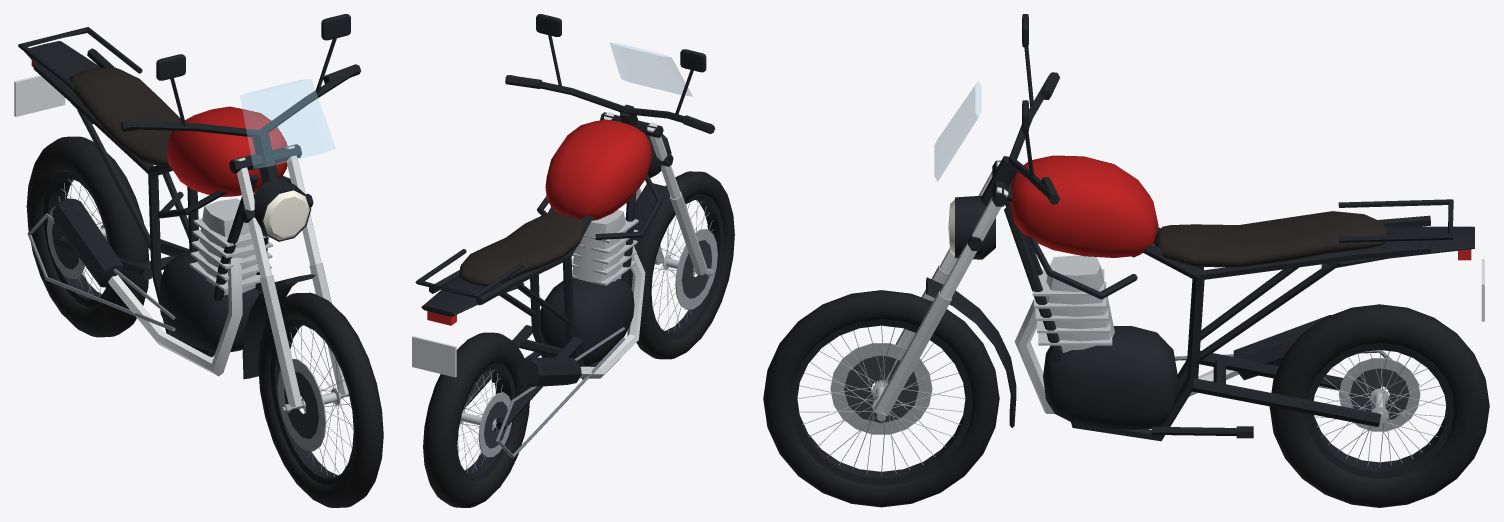
Rendered from royal_enfield_himalayan.mid.glb.
3 renders of one model, left to right at view 1: azimuth 30°, elevation 25°; view 2: azimuth 150°, elevation 25°; view 3: azimuth 270°, elevation 25°, orthographic. The views are drawn at different scales.
Parts seen in each view (by area): view 1: royal_enfield_himalayan, steer, front_wheel, rear_wheel, swingarm; view 2: royal_enfield_himalayan, rear_wheel, front_wheel, steer, swingarm; view 3: royal_enfield_himalayan, front_wheel, rear_wheel, steer, swingarm, side_stand.
Part boxes in pixels (box(x1,y1,x2,y2)): royal_enfield_himalayan: box(14, 27, 291, 376); steer: box(120, 14, 360, 413); front_wheel: box(258, 292, 383, 507); rear_wheel: box(26, 136, 149, 337); swingarm: box(27, 213, 189, 331); royal_enfield_himalayan: box(412, 104, 662, 387); rear_wheel: box(423, 332, 529, 507); front_wheel: box(636, 171, 734, 359); steer: box(505, 14, 715, 324); swingarm: box(463, 325, 624, 458); royal_enfield_himalayan: box(981, 155, 1484, 441); front_wheel: box(763, 290, 999, 507); rear_wheel: box(1269, 304, 1489, 507); steer: box(875, 14, 1060, 427); swingarm: box(1174, 350, 1419, 426); side_stand: box(1151, 426, 1253, 438).
Size of the model in its own units: 0.8616 by 1.44 by 2.14.
